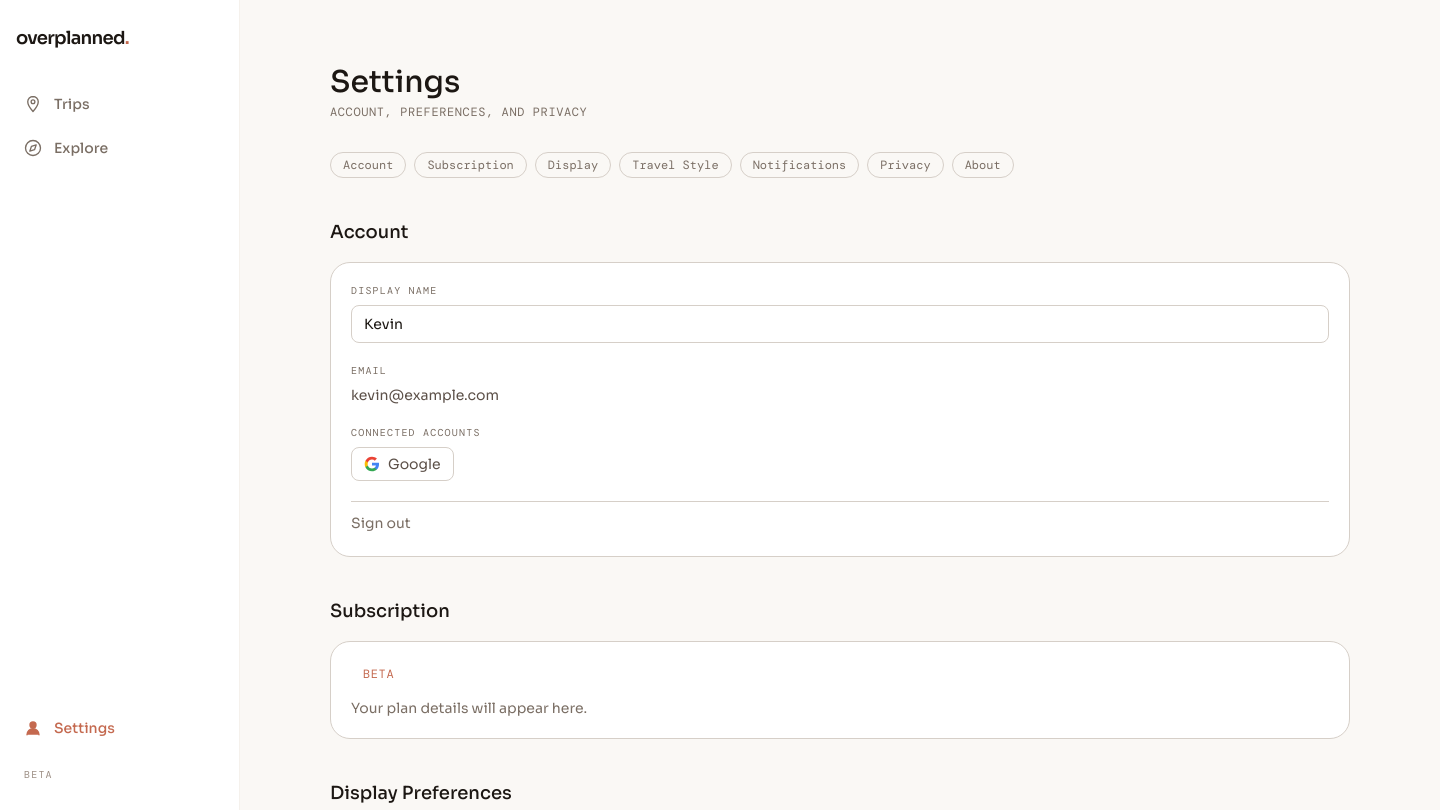
Test: SettingsPage — AccountSection interaction › reverts name on PATCH failure
Replace the text in the field showing "Kevin" with "Will Fail" at [840, 324], box [351,305,1329,343]
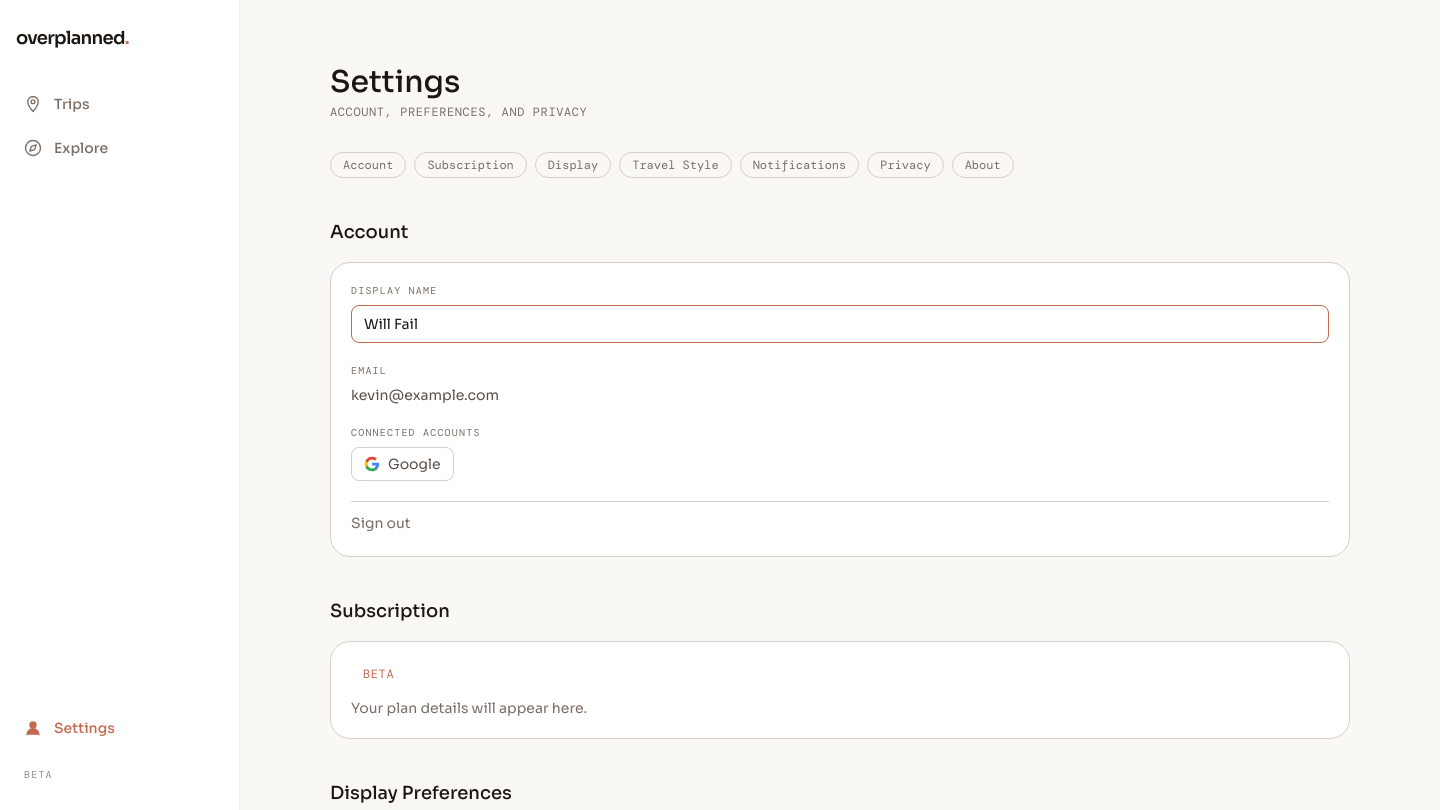
Press Tab
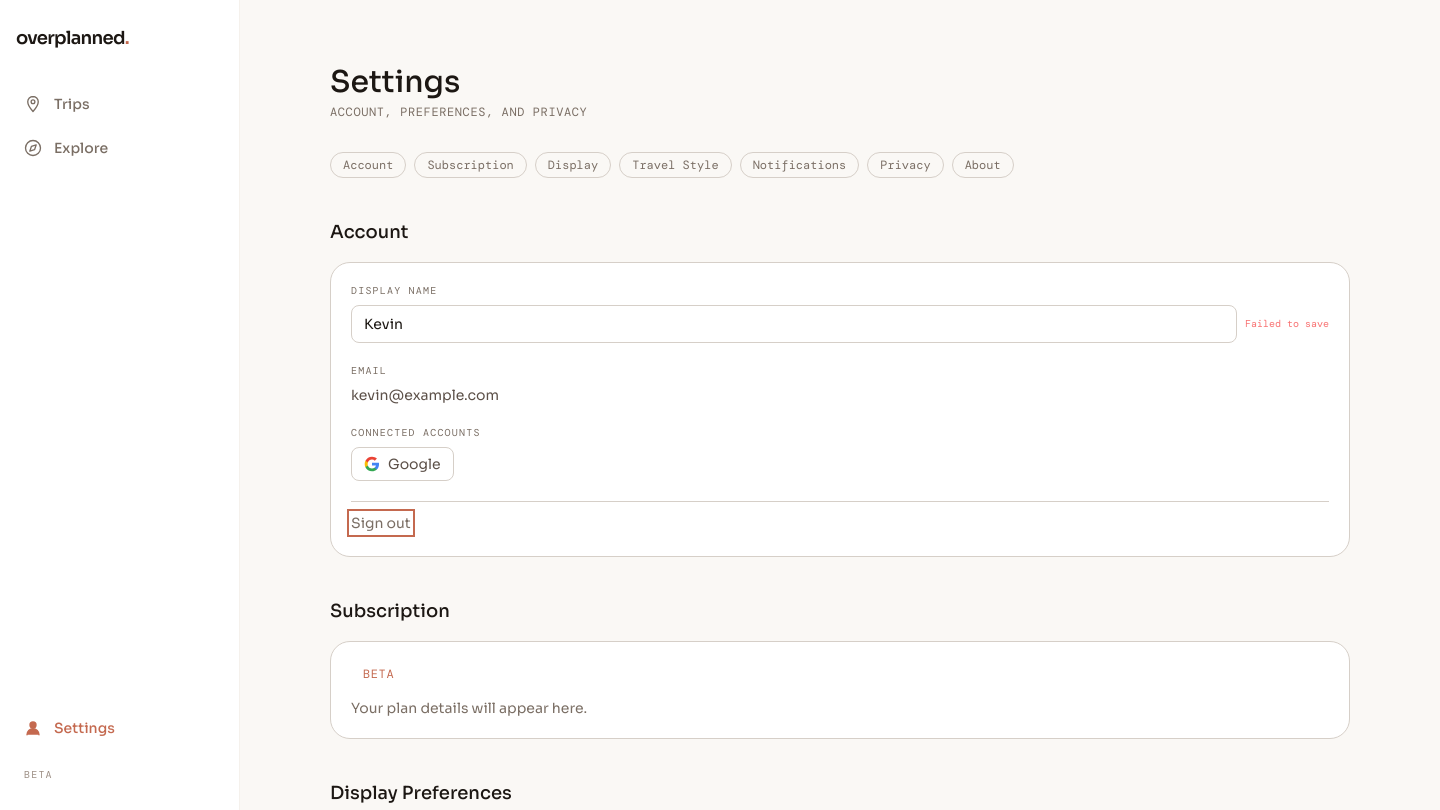
Expected: the field showing "Kevin" is shown, [351,305,1237,343]
